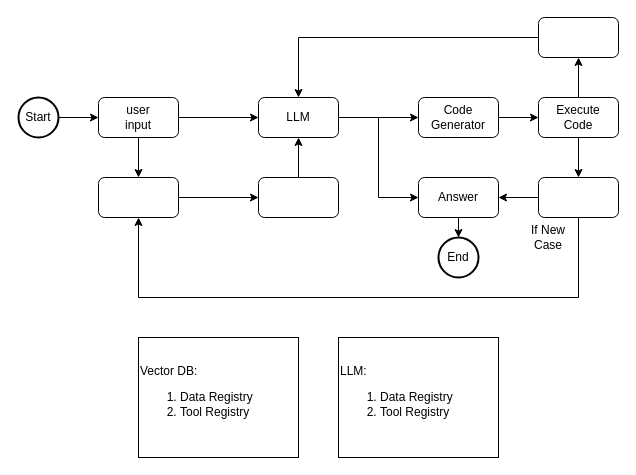
Image size: 636x475. Some labels were removed from this diagram. The centre of each missing label's shape, as x and y in pixels:
Error Exeption: (x=578, y=37)
Relevan Data: (x=298, y=197)
Success: (x=578, y=197)
Vector DB: (x=138, y=197)
